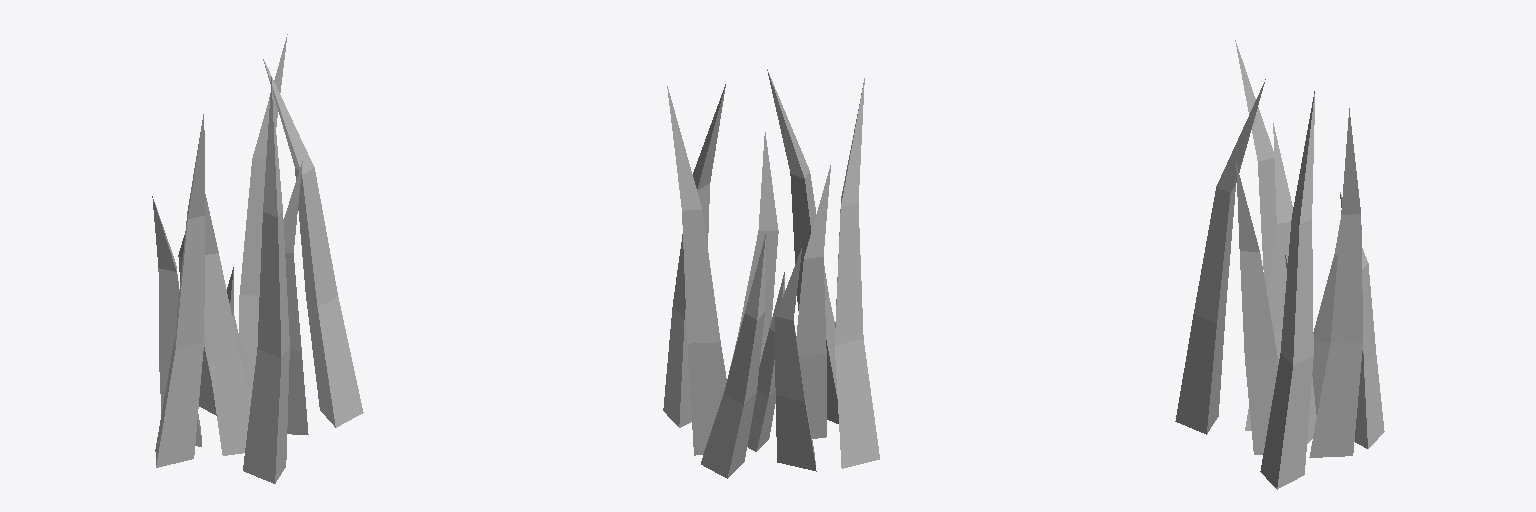
Rendered from Grass.obj.
3 renders of one model, left to right at view 1: azimuth 30°, elevation 25°; view 2: azimuth 150°, elevation 25°; view 3: azimuth 270°, elevation 25°, orthographic.
Parts seen in each view (by area): view 1: GrassSmall; view 2: GrassSmall; view 3: GrassSmall.
Part boxes in pixels (x1,y1,x2,y2): GrassSmall: (152,34,363,483); GrassSmall: (663,69,879,478); GrassSmall: (1175,40,1384,489).
Bounding box in the file's own units: 1.24 × 2.02 × 1.05.